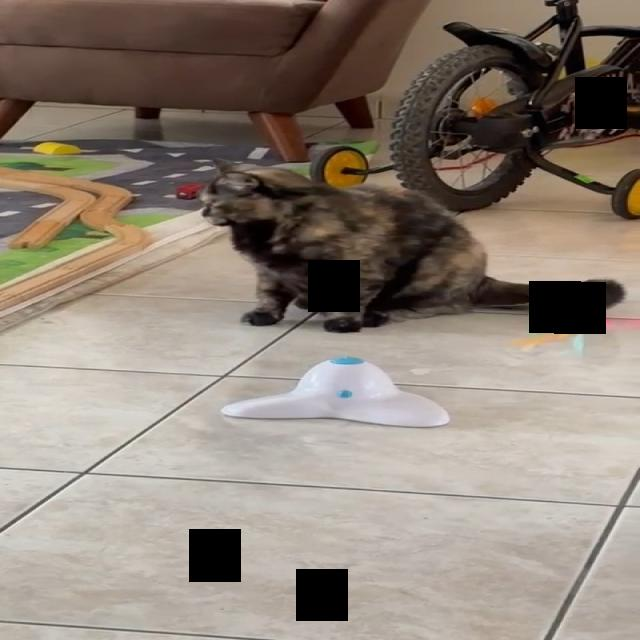authorized: (195, 157, 625, 334)
